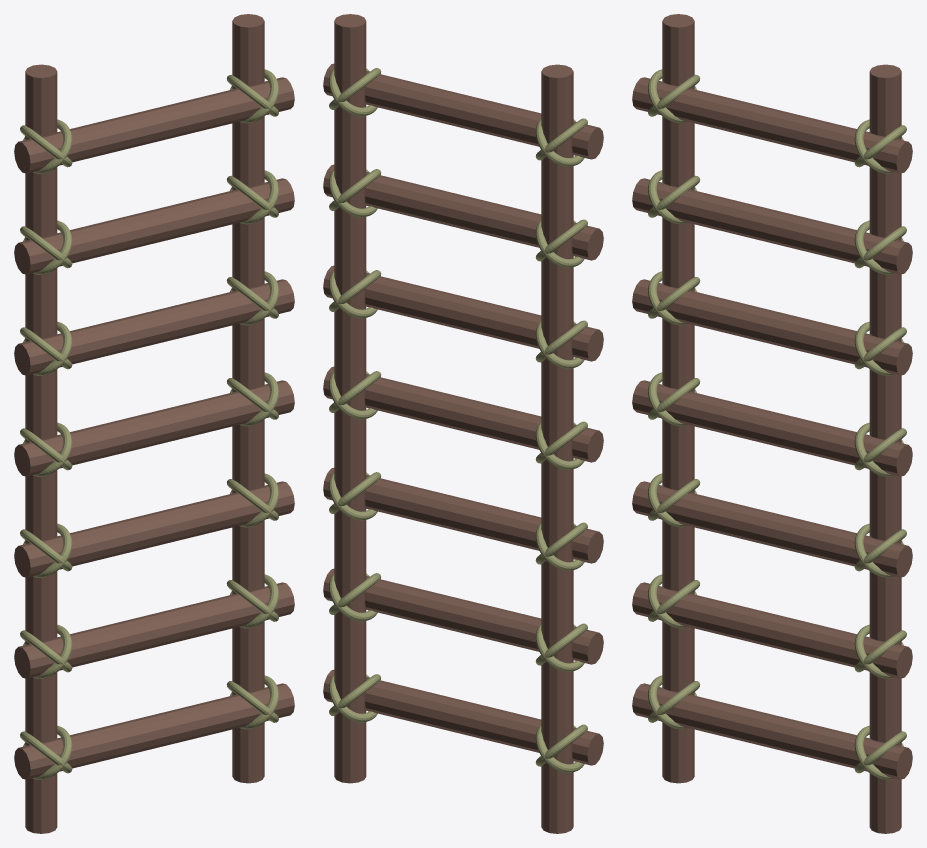
Rendered from Ladder 1.fbx.
The picture shows the model from 3 angles, left to right: view 1: azimuth 30°, elevation 25°; view 2: azimuth 150°, elevation 25°; view 3: azimuth 330°, elevation 25°; orthographic projection.
Visible parts, largest first — view 1: Ladder 1; view 2: Ladder 1; view 3: Ladder 1.
Part boxes in pixels (x1,y1,x2,y2): Ladder 1: [14, 14, 294, 833]; Ladder 1: [323, 14, 603, 833]; Ladder 1: [632, 14, 912, 833].
Size of the model in its own units: 2.93 by 8 by 0.6698.
